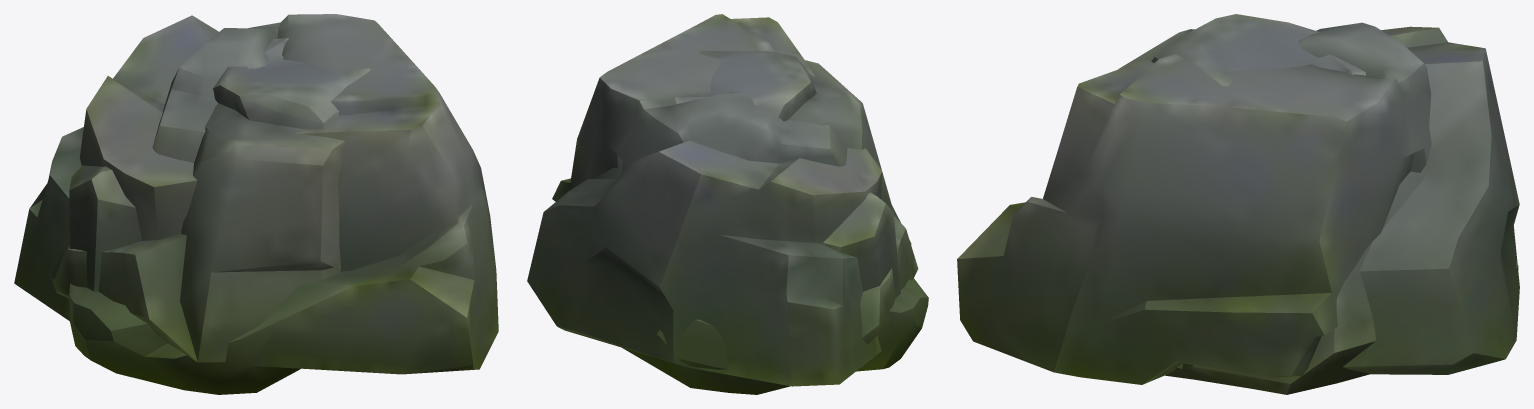
The model's file is MegaRocks.glb.
3 views of the same model, side by side, from view 1: azimuth 30°, elevation 25°; view 2: azimuth 150°, elevation 25°; view 3: azimuth 270°, elevation 25° (orthographic). The views are drawn at different scales.
Visible parts, largest first — view 1: Rock_Medium_3, Rock_Medium_1, Rock_Medium_2; view 2: Rock_Medium_2, Rock_Medium_3, Rock_Medium_1; view 3: Rock_Medium_3, Rock_Medium_2, Rock_Medium_1.
Part boxes in pixels (box(x1,y1,x2,y2)): Rock_Medium_3: box(69, 14, 498, 394); Rock_Medium_1: box(52, 38, 370, 362); Rock_Medium_2: box(14, 15, 218, 320); Rock_Medium_2: box(527, 140, 882, 386); Rock_Medium_3: box(552, 14, 928, 371); Rock_Medium_1: box(573, 50, 918, 394); Rock_Medium_3: box(957, 22, 1431, 384); Rock_Medium_2: box(1343, 26, 1519, 374); Rock_Medium_1: box(1118, 14, 1518, 394).
Size of the model in its own units: 3.42 by 2.32 by 3.74.
1 material, 1 textured.
